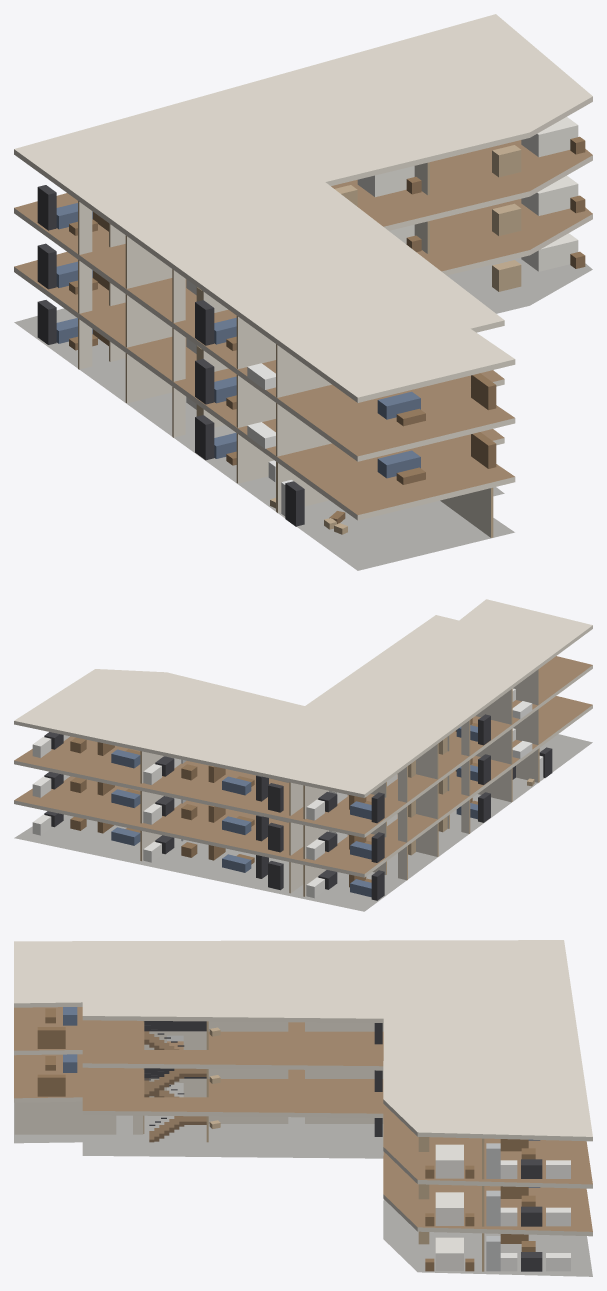
Rendered from interior.glb.
The picture shows the model from 3 angles, top to bottom: view 1: azimuth 30°, elevation 25°; view 2: azimuth 150°, elevation 25°; view 3: azimuth 270°, elevation 25°; orthographic projection. The views are drawn at different scales.
Visible parts, largest first — view 1: slabs, partitions, coarse-s2, coarse-s1, coarse-s0, flat-walls-1--140, flat-walls-2--140, flat-walls-0--140, flat-walls-2--43, flat-walls-1--43, flat-walls-0--43; view 2: slabs, partitions, coarse-s2, coarse-s1, coarse-s0, flat-walls-2--140, flat-walls-1--140; view 3: slabs, partitions, coarse-s1, coarse-s2, coarse-s0, stair.
Part boxes in pixels (bbox=[...]): slabs: bbox=[14, 14, 592, 570]; partitions: bbox=[125, 162, 493, 537]; coarse-s2: bbox=[37, 117, 585, 426]; coarse-s1: bbox=[37, 175, 585, 484]; coarse-s0: bbox=[37, 233, 585, 534]; flat-walls-1--140: bbox=[78, 260, 125, 313]; flat-walls-2--140: bbox=[78, 201, 125, 254]; flat-walls-0--140: bbox=[78, 318, 125, 369]; flat-walls-2--43: bbox=[172, 269, 227, 322]; flat-walls-1--43: bbox=[172, 328, 228, 381]; flat-walls-0--43: bbox=[172, 387, 224, 437]; slabs: bbox=[14, 599, 592, 911]; partitions: bbox=[140, 669, 539, 896]; coarse-s2: bbox=[32, 688, 532, 823]; coarse-s1: bbox=[32, 728, 532, 862]; coarse-s0: bbox=[32, 747, 552, 900]; flat-walls-2--140: bbox=[370, 766, 407, 802]; flat-walls-1--140: bbox=[371, 806, 407, 842]; slabs: bbox=[14, 940, 592, 1276]; partitions: bbox=[14, 1021, 383, 1142]; coarse-s1: bbox=[37, 1035, 570, 1226]; coarse-s2: bbox=[37, 1007, 570, 1178]; coarse-s0: bbox=[209, 1118, 570, 1271]; stair: bbox=[144, 1021, 206, 1142].
Size of the model in its own units: 25.15 by 8.35 by 31.24.
